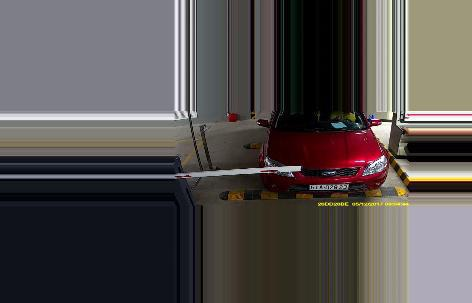License_Plate: (308, 180, 349, 191)
